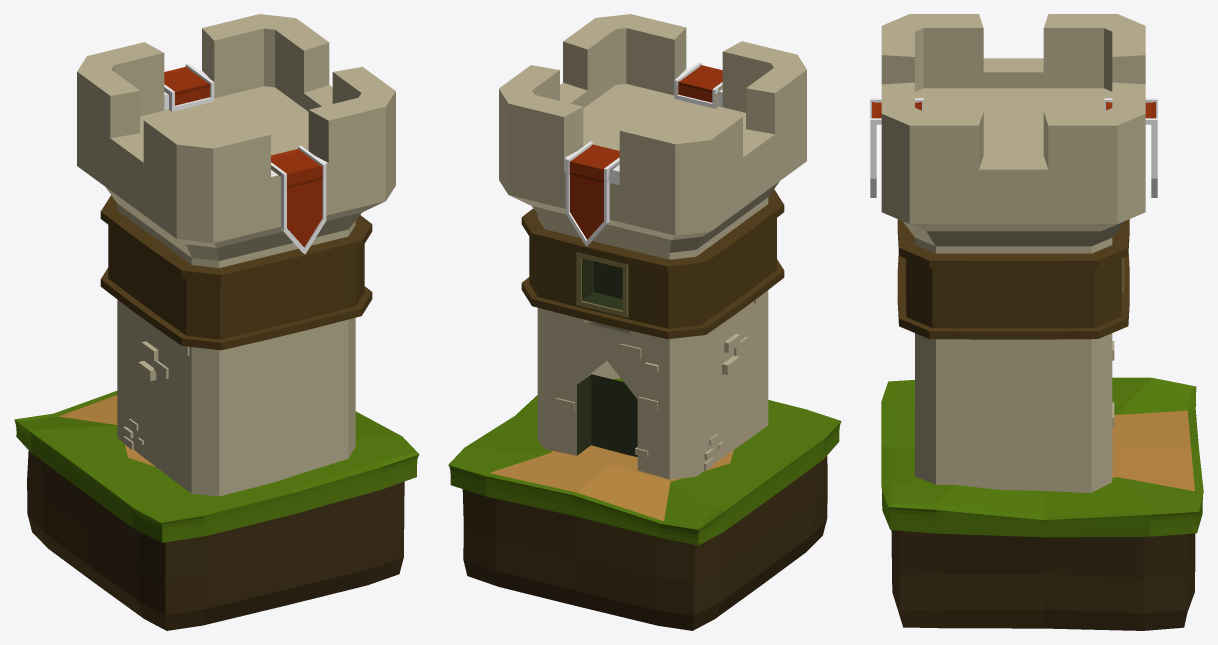
Rendered from EnemySpawnTile_Tower.fbx.
3 views of the same model, side by side, from view 1: azimuth 30°, elevation 25°; view 2: azimuth 150°, elevation 25°; view 3: azimuth 270°, elevation 25° (orthographic). The views are drawn at different scales.
Parts seen in each view (by area): view 1: Cube.025, DefaultGreenTile.006; view 2: Cube.025, DefaultGreenTile.006; view 3: Cube.025, DefaultGreenTile.006.
Part boxes in pixels (x1,y1,x2,y2): Cube.025: (77, 14, 395, 496); DefaultGreenTile.006: (14, 391, 419, 630); Cube.025: (499, 14, 806, 479); DefaultGreenTile.006: (448, 378, 841, 630); Cube.025: (870, 14, 1157, 492); DefaultGreenTile.006: (881, 377, 1203, 630).
Size of the model in its own units: 19.55 by 20.1 by 33.78.
